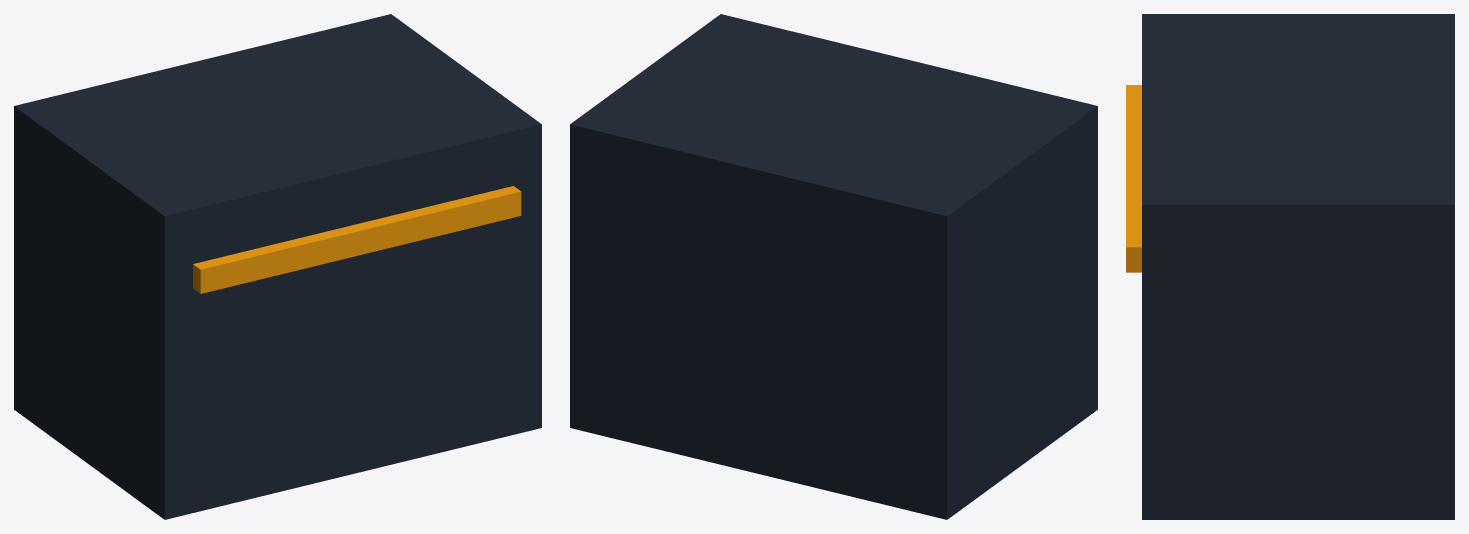
Rendered from prolecge-solar-duty-padmount.glb.
3 views of the same model, side by side, from view 1: azimuth 30°, elevation 25°; view 2: azimuth 150°, elevation 25°; view 3: azimuth 270°, elevation 25° (orthographic). The views are drawn at different scales.
Size of the model in its own units: 2.6 by 2 by 1.89.
